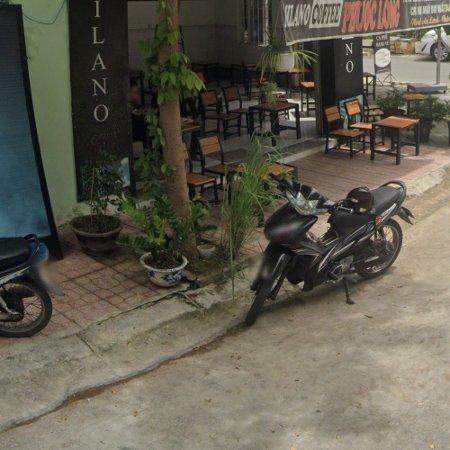motorcycles: (246, 176, 414, 325)
